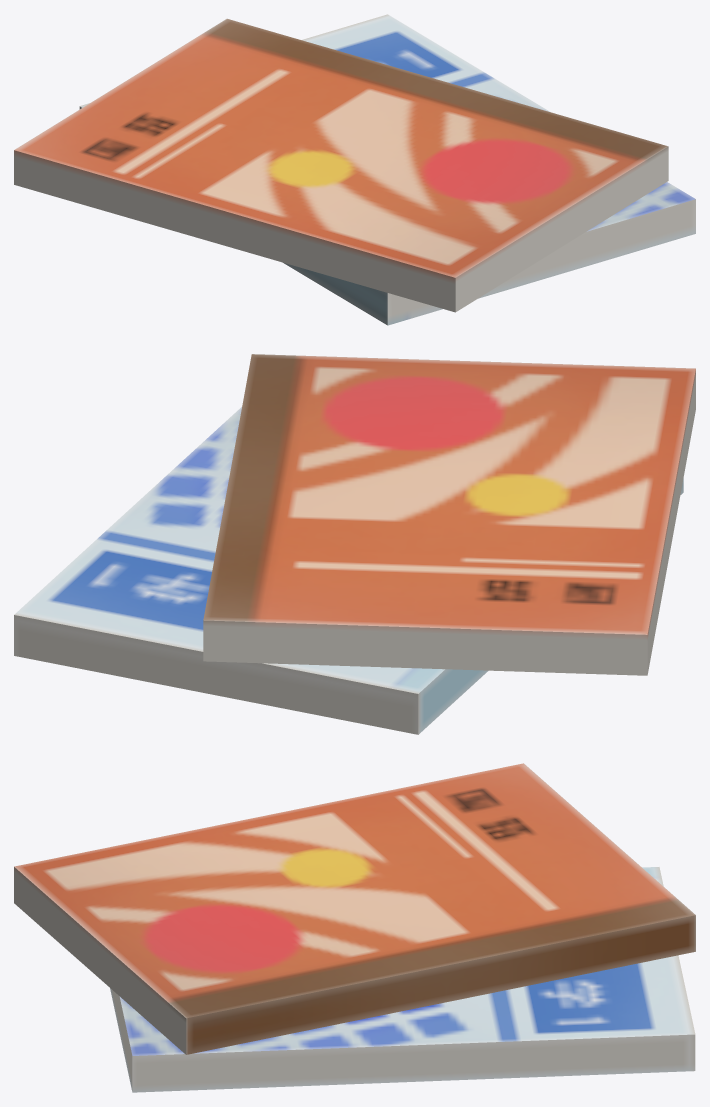
Rendered from Textbook_01_05.fbx.
3 renders of one model, top to bottom at view 1: azimuth 30°, elevation 25°; view 2: azimuth 150°, elevation 25°; view 3: azimuth 270°, elevation 25°, orthographic. The views are drawn at different scales.
Parts seen in each view (by area): view 1: textbook06_01, textbook05_01; view 2: textbook06_01, textbook05_01; view 3: textbook06_01, textbook05_01.
Part boxes in pixels (left/top/right/bottom): textbook06_01: left=14, top=18, right=668, bottom=312; textbook05_01: left=79, top=14, right=695, bottom=325; textbook06_01: left=203, top=354, right=695, bottom=675; textbook05_01: left=14, top=407, right=683, bottom=734; textbook06_01: left=14, top=763, right=695, bottom=1054; textbook05_01: left=110, top=867, right=695, bottom=1092.
Bounding box in the file's own units: 22.51 × 3 × 25.33.
